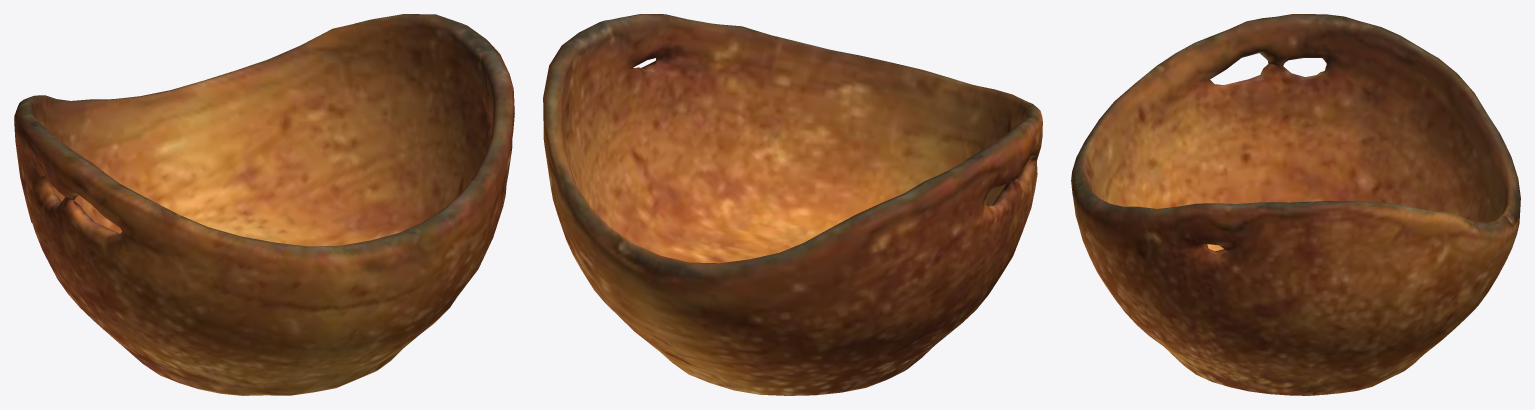
The model's file is wooden_bowl_02.glb.
3 renders of one model, left to right at view 1: azimuth 30°, elevation 25°; view 2: azimuth 150°, elevation 25°; view 3: azimuth 270°, elevation 25°, orthographic. The views are drawn at different scales.
Parts seen in each view (by area): view 1: wooden_bowl_02; view 2: wooden_bowl_02; view 3: wooden_bowl_02.
Boxes of the visible parts, x1=… form: wooden_bowl_02: x1=14, y1=14, x2=514, y2=395; wooden_bowl_02: x1=543, y1=14, x2=1042, y2=395; wooden_bowl_02: x1=1071, y1=14, x2=1520, y2=395.
Bounding box in the file's own units: 0.1307 × 0.0731 × 0.1245.
Materials: 1 (1 with a texture image).
